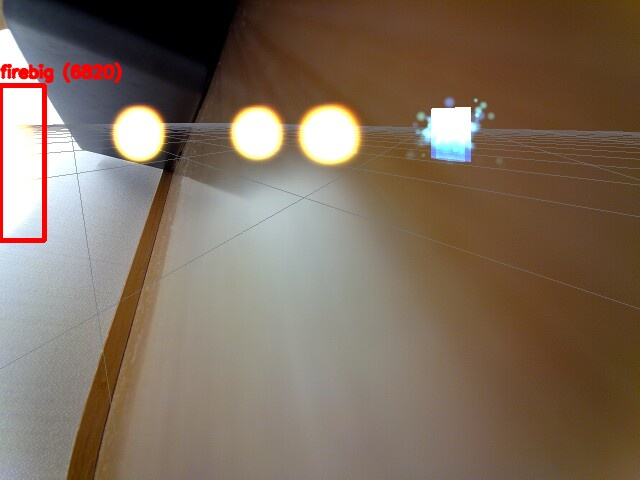firebig: (0, 85, 44, 240)
